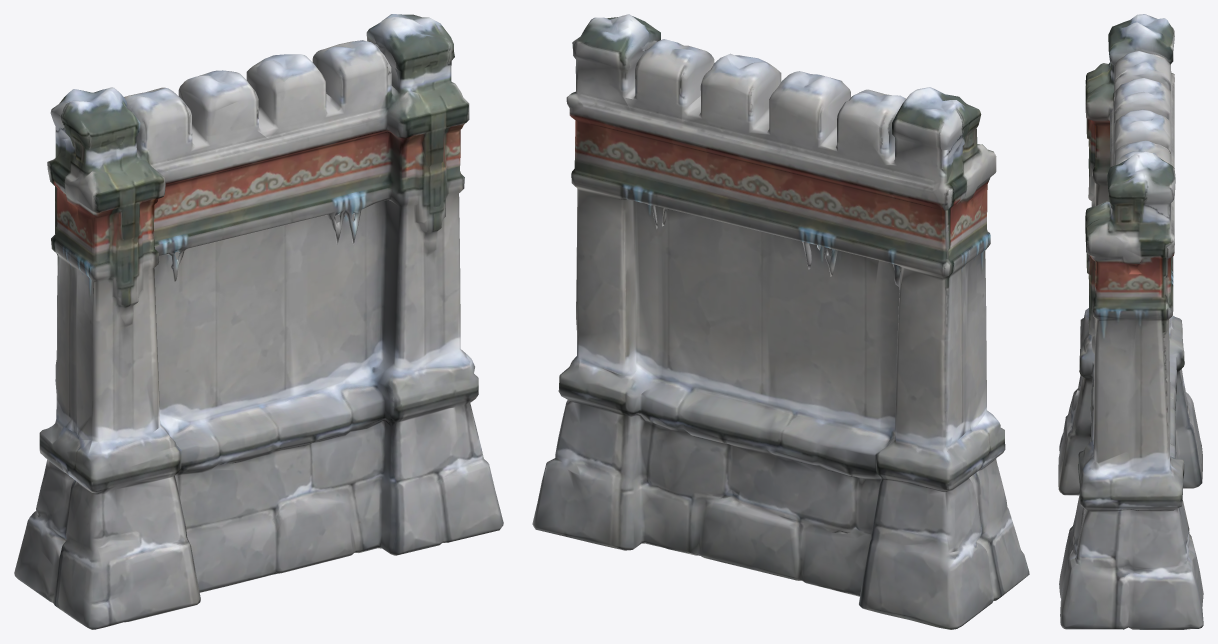
Rendered from SM_Tripo_FrostRampart.glb.
3 renders of one model, left to right at view 1: azimuth 30°, elevation 25°; view 2: azimuth 150°, elevation 25°; view 3: azimuth 270°, elevation 25°, orthographic. The views are drawn at different scales.
Visible parts, largest first — view 1: SM_Tripo_FrostRampart_LOD0; view 2: SM_Tripo_FrostRampart_LOD0; view 3: SM_Tripo_FrostRampart_LOD0.
Part boxes in pixels (x1,y1,x2,y2): SM_Tripo_FrostRampart_LOD0: [14, 14, 503, 629]; SM_Tripo_FrostRampart_LOD0: [532, 14, 1029, 629]; SM_Tripo_FrostRampart_LOD0: [1058, 14, 1203, 629].
Size of the model in its own units: 7.82 by 8.82 by 2.58.
1 material, 1 textured.
